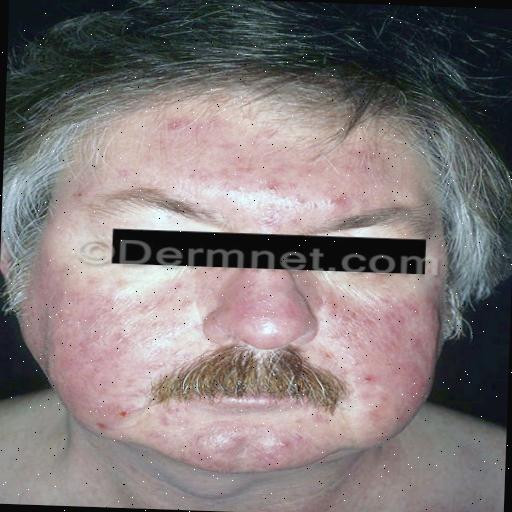Skin_Lesion: (200, 434, 318, 461), (214, 270, 270, 324), (378, 298, 414, 350), (314, 298, 366, 328), (152, 108, 194, 138), (157, 292, 205, 318), (246, 120, 280, 152), (330, 189, 366, 214), (345, 137, 379, 163), (263, 173, 292, 193), (113, 326, 135, 352), (352, 363, 376, 386), (106, 270, 128, 294), (118, 401, 130, 419)
